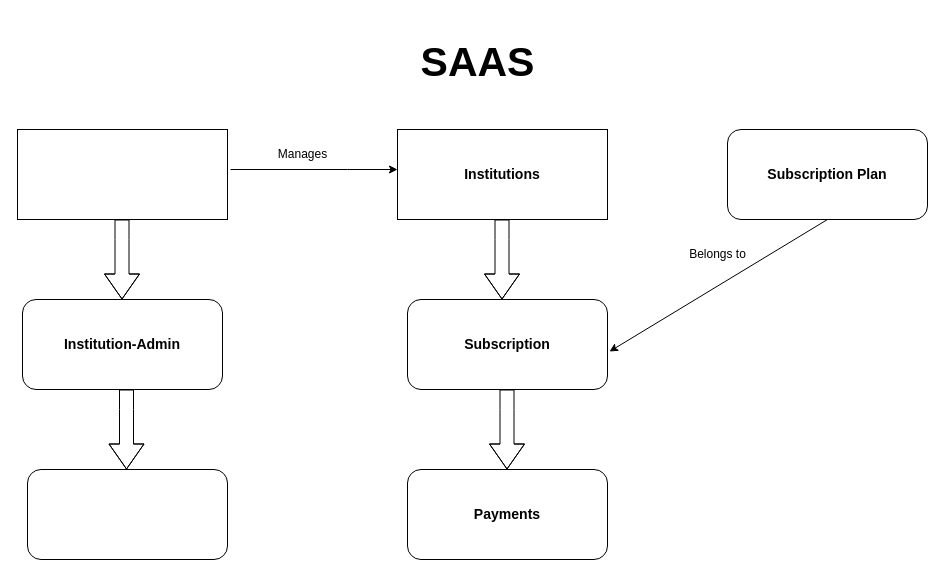
This 945x577 diagram has some shape labels left out. Here are the shapes that lost their labels. From the top down, the centre of each, then its label:
point (122, 174): Super-Admin
point (127, 514): Other Roles
